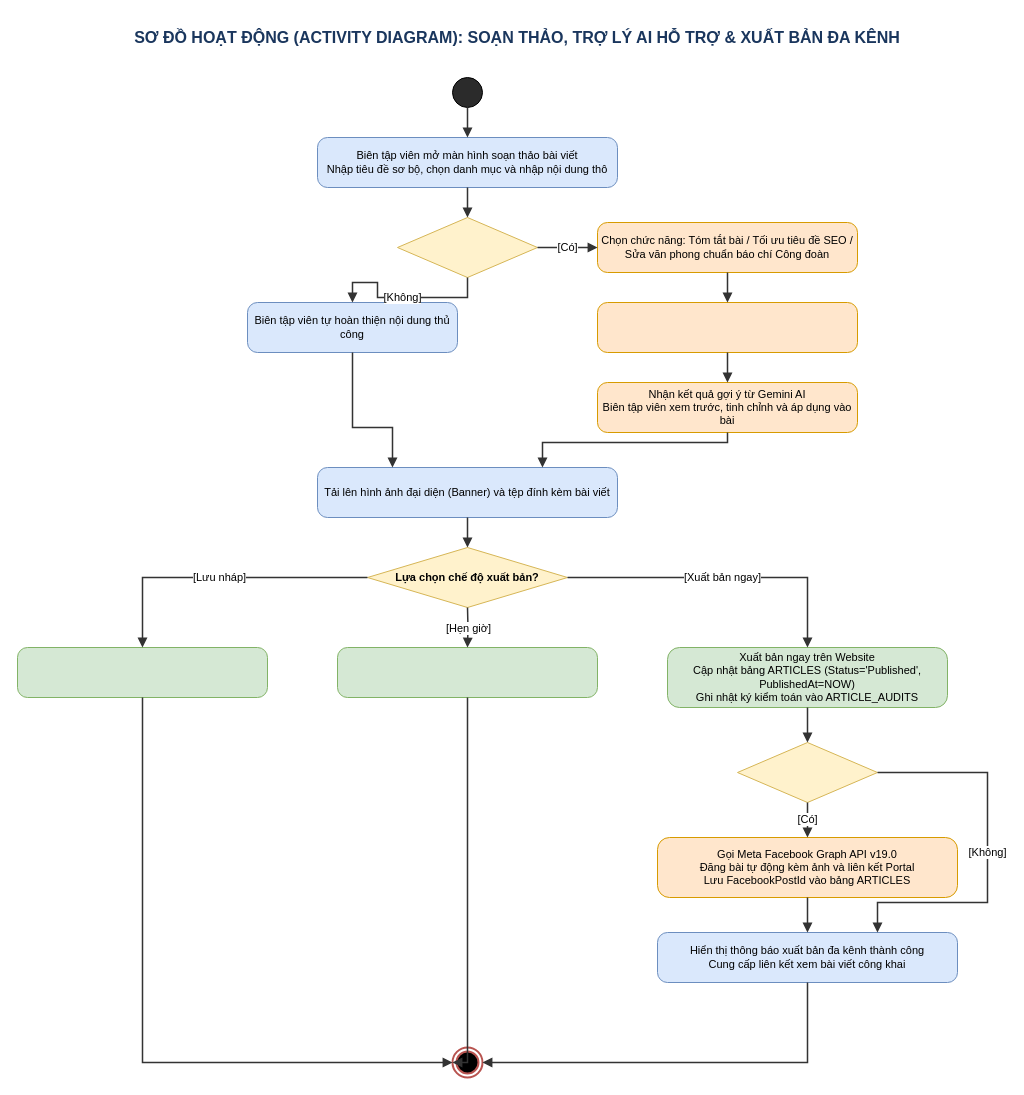
This 1024x1095 diagram has some shape labels left out. Each missing label, with the centre of its shape:
"Hẹn giờ xuất bản (Schedule) Thiết lập ngày/giờ tự động, lưu vào bảng SCHEDULES" goes at [467,672].
"Hệ thống gửi prompt & nội dung thô đến Google Gemini Pro API" goes at [727,327].
"Lưu bản nháp (Draft) INSERT/UPDATE bảng ARTICLES với Status='Draft'" goes at [142,672].
"Sử dụng Trợ lý AI Copilot?" goes at [467,247].
"Đồng bộ lên Fanpage Facebook?" goes at [807,772].
